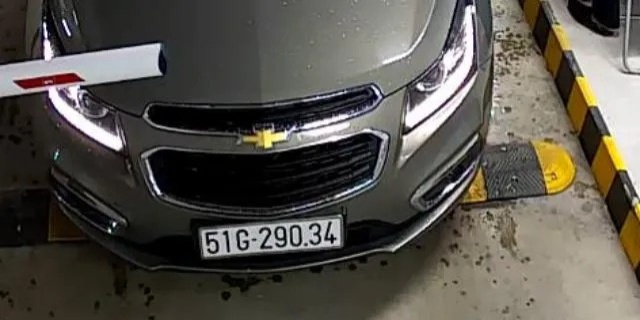bien_so: (200, 218, 340, 257)
